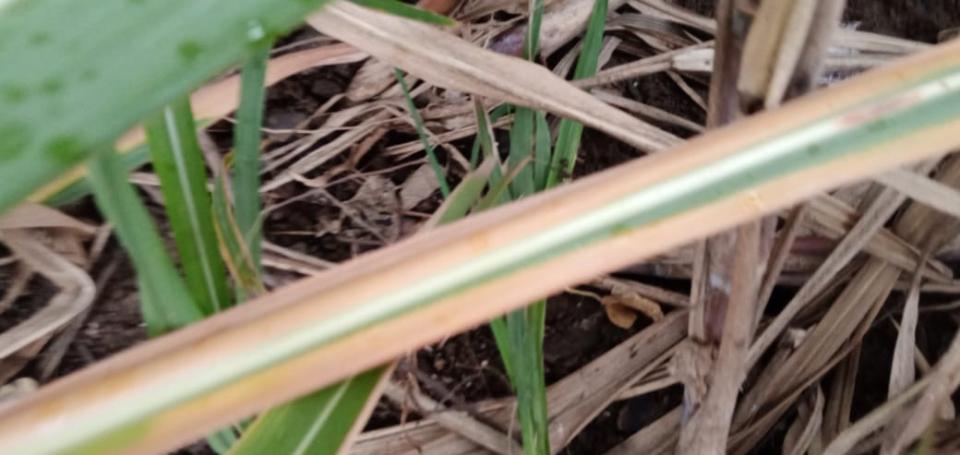RedRot: (835, 88, 926, 130)
Yellow: (0, 37, 959, 444), (118, 119, 959, 454)
